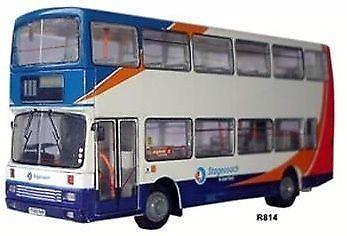bus: (7, 5, 338, 219)
